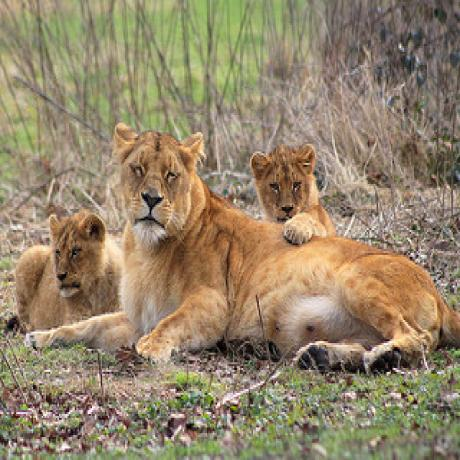Lion: (111, 117, 455, 374), (13, 209, 120, 329), (250, 139, 332, 246)
